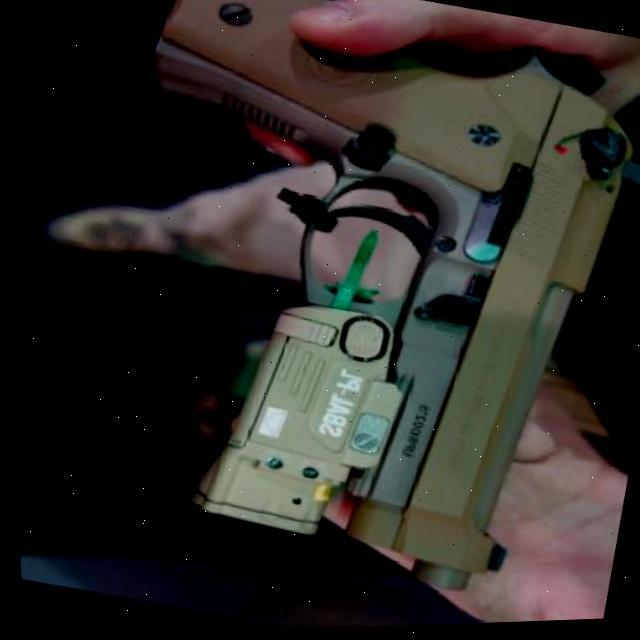gun: (48, 0, 640, 627)
